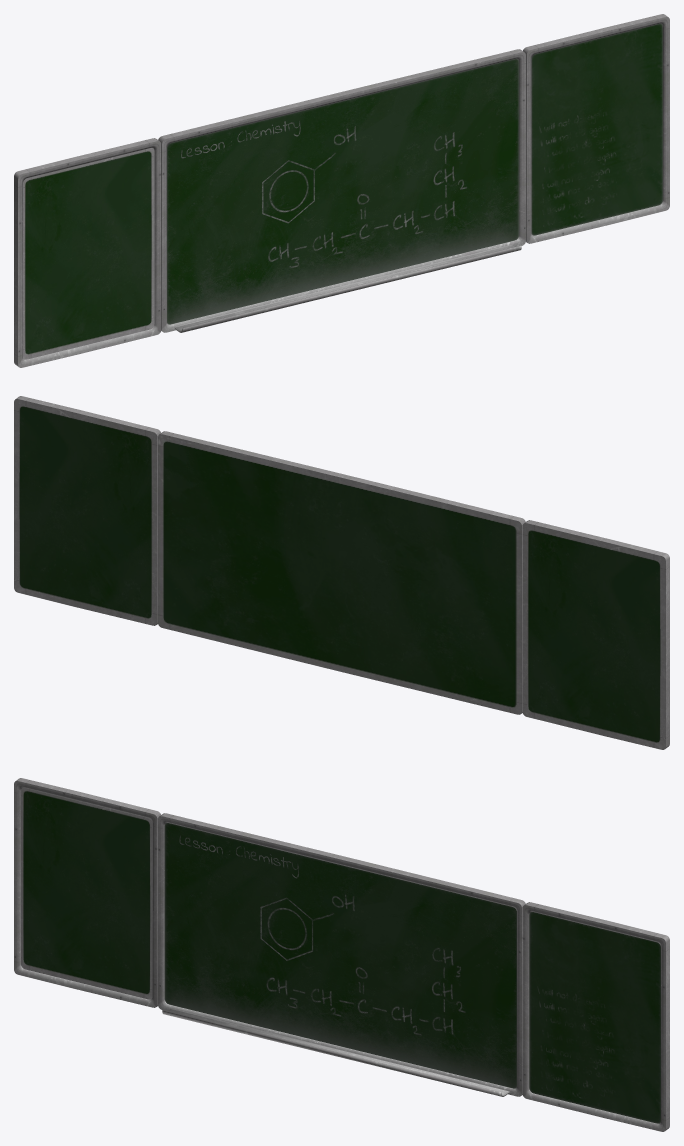
The picture shows the model from 3 angles, top to bottom: view 1: azimuth 30°, elevation 25°; view 2: azimuth 150°, elevation 25°; view 3: azimuth 330°, elevation 25°; orthographic projection.
Parts seen in each view (by area): view 1: WallBoard_1_L; view 2: WallBoard_1_L; view 3: WallBoard_1_L.
Part boxes in pixels (x1,y1,x2,y2): WallBoard_1_L: (14,14,669,367); WallBoard_1_L: (14,396,669,749); WallBoard_1_L: (14,778,669,1131).
Size of the model in its own units: 448 by 128 by 14.71.
1 material, 1 textured.
